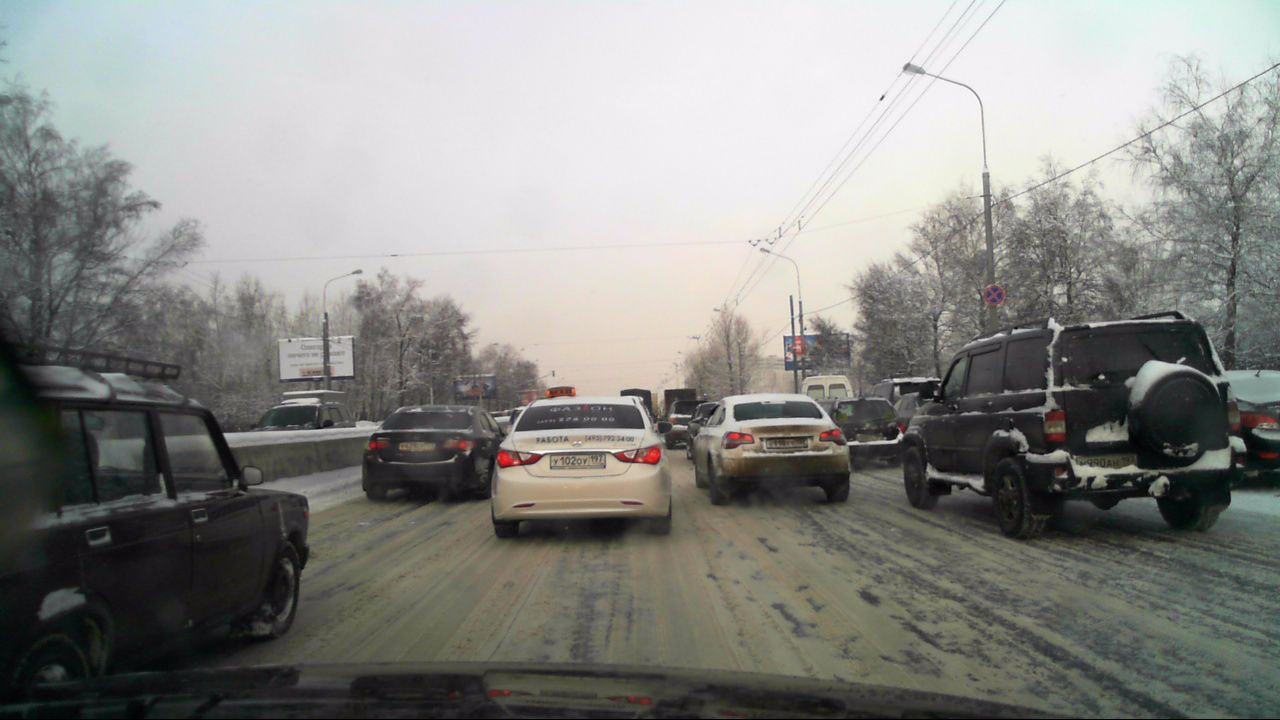No Parking: (981, 281, 1006, 305)
